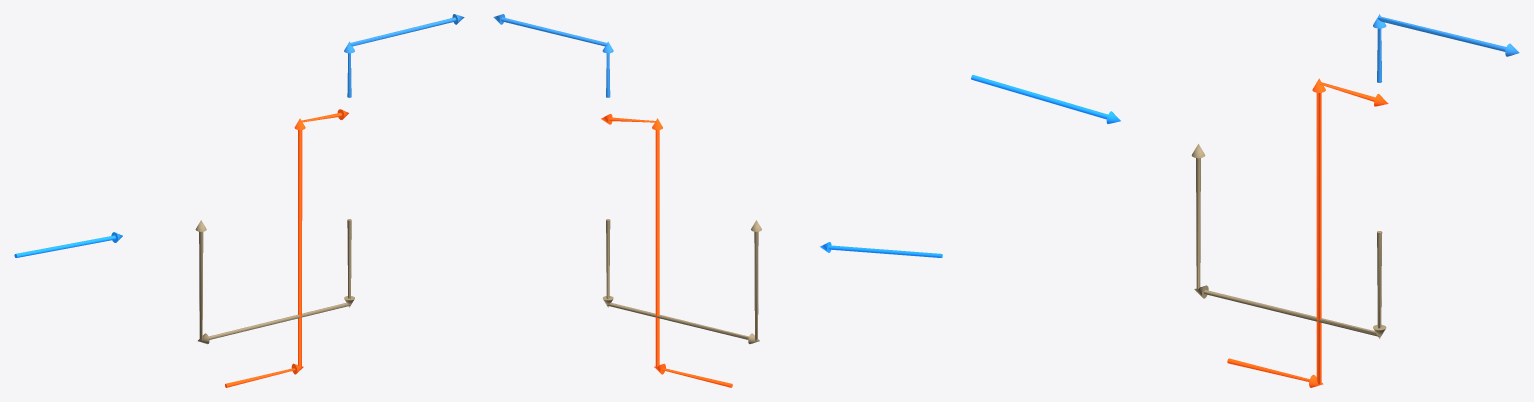
Rendered from oxalate_removal_system_flow.glb.
The picture shows the model from 3 angles, left to right: view 1: azimuth 30°, elevation 25°; view 2: azimuth 150°, elevation 25°; view 3: azimuth 330°, elevation 25°; orthographic projection. The views are drawn at different scales.
Parts seen in each view (by area): view 1: to_cyclone, seed_return, clean_liquor, liquor_in; view 2: to_cyclone, seed_return, clean_liquor, liquor_in; view 3: to_cyclone, seed_return, clean_liquor, liquor_in.
Part boxes in pixels (x1,y1,x2,y2): to_cyclone: [225, 109, 348, 387]; seed_return: [195, 219, 354, 344]; clean_liquor: [344, 14, 464, 97]; liquor_in: [14, 232, 122, 257]; to_cyclone: [601, 114, 732, 387]; seed_return: [602, 219, 761, 343]; clean_liquor: [493, 14, 613, 97]; liquor_in: [820, 242, 942, 257]; to_cyclone: [1227, 78, 1388, 387]; seed_return: [1191, 144, 1386, 338]; clean_liquor: [1373, 14, 1519, 82]; liquor_in: [971, 75, 1120, 123].
Size of the model in its own units: 3.63 by 2.48 by 0.1728.
